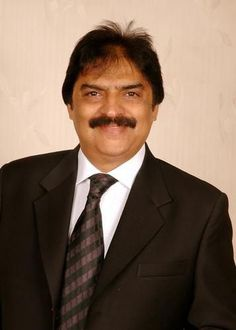bad: (66, 66, 155, 156)
